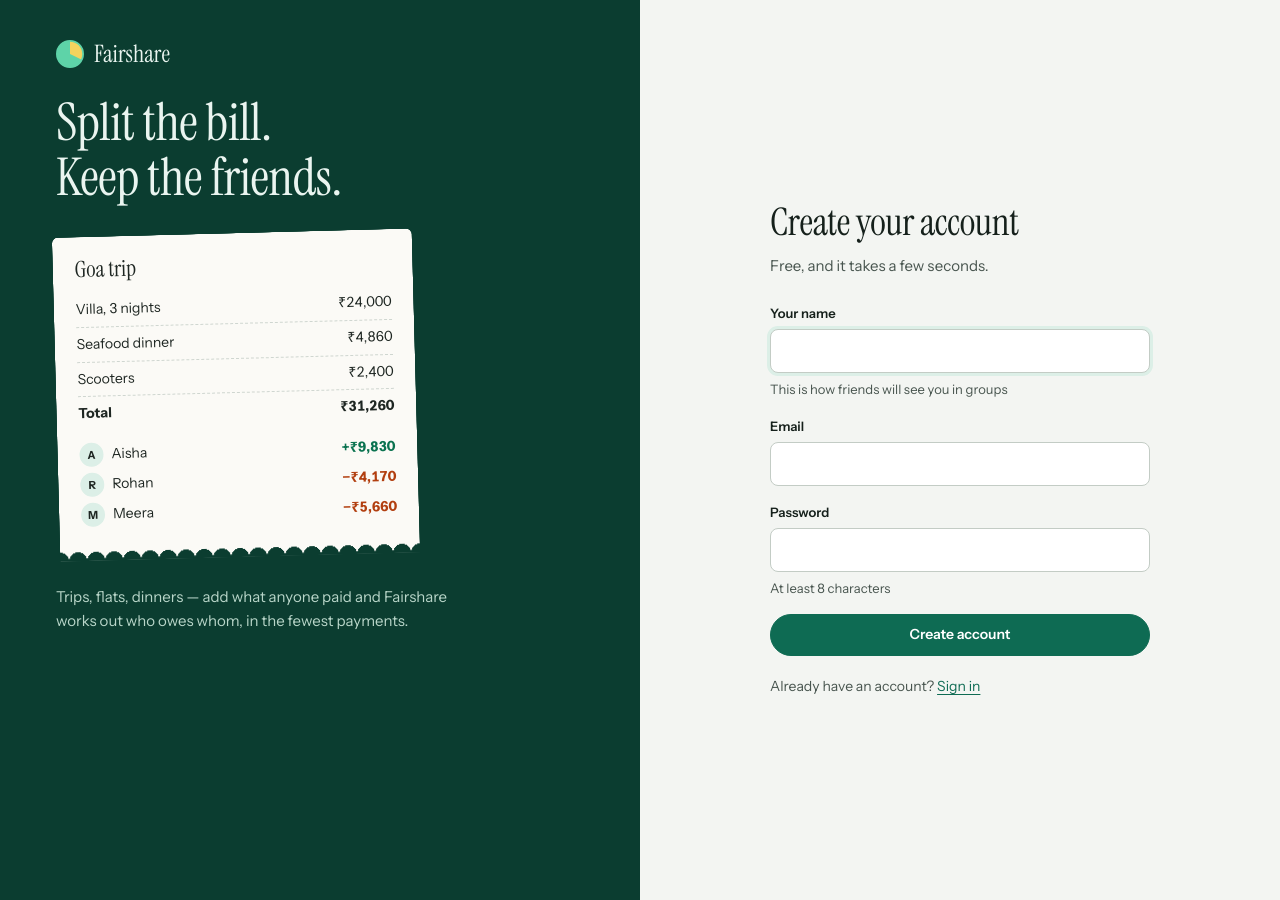
accounts › validates sign-up fields with the shared rules
The width and height of the screenshot is (1280, 900).
What coordinates should you click on to do the following:
click the button "Create account"
I would click on:
 (960, 635)
Its box is [770, 614, 1150, 656].
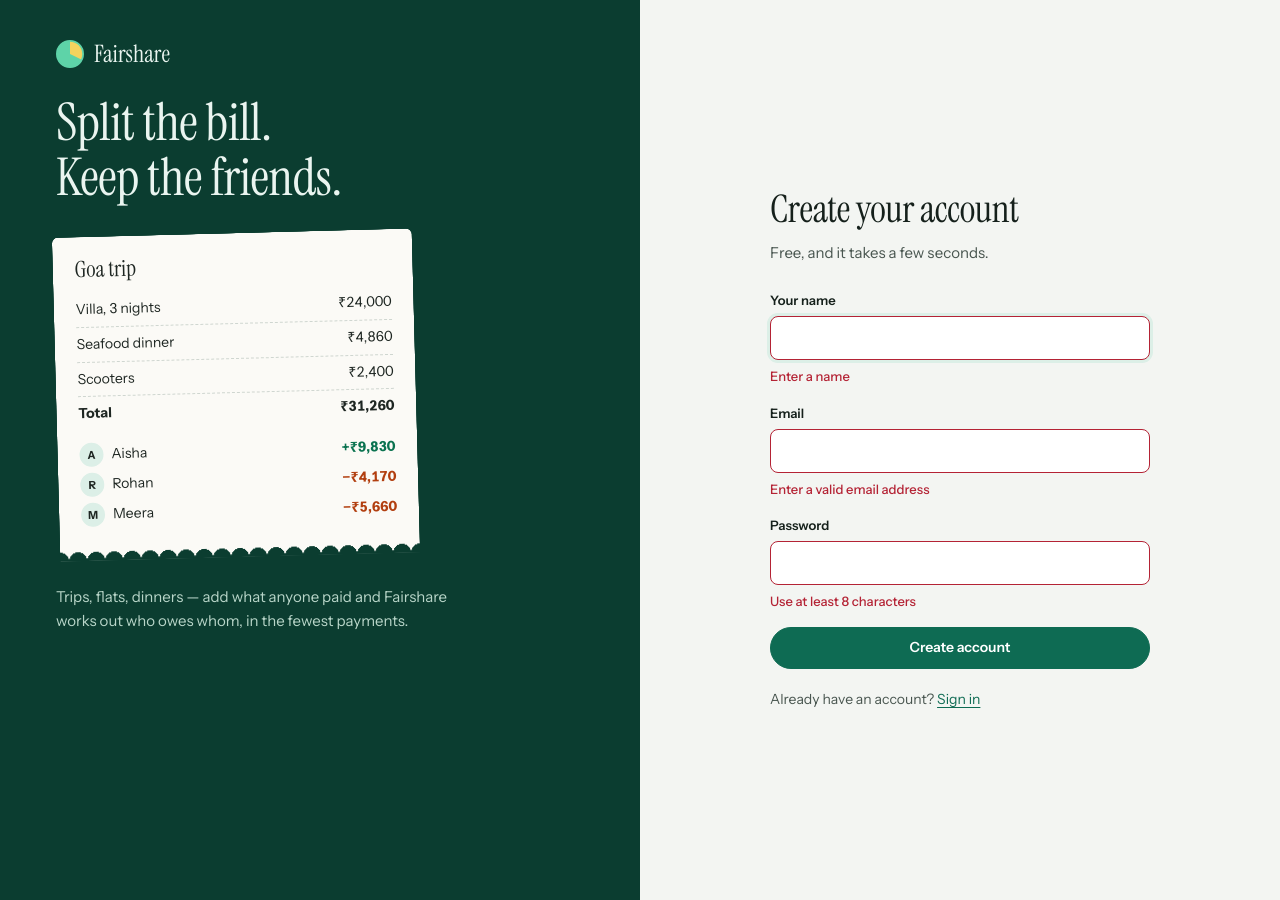
expect the text "Enter a name" is shown: met, box [770, 368, 850, 384]
expect the text "Enter a valid email address" is shown: met, box [770, 481, 929, 497]
expect the text "Use at least 8 characters" is shown: met, box [770, 593, 916, 609]
